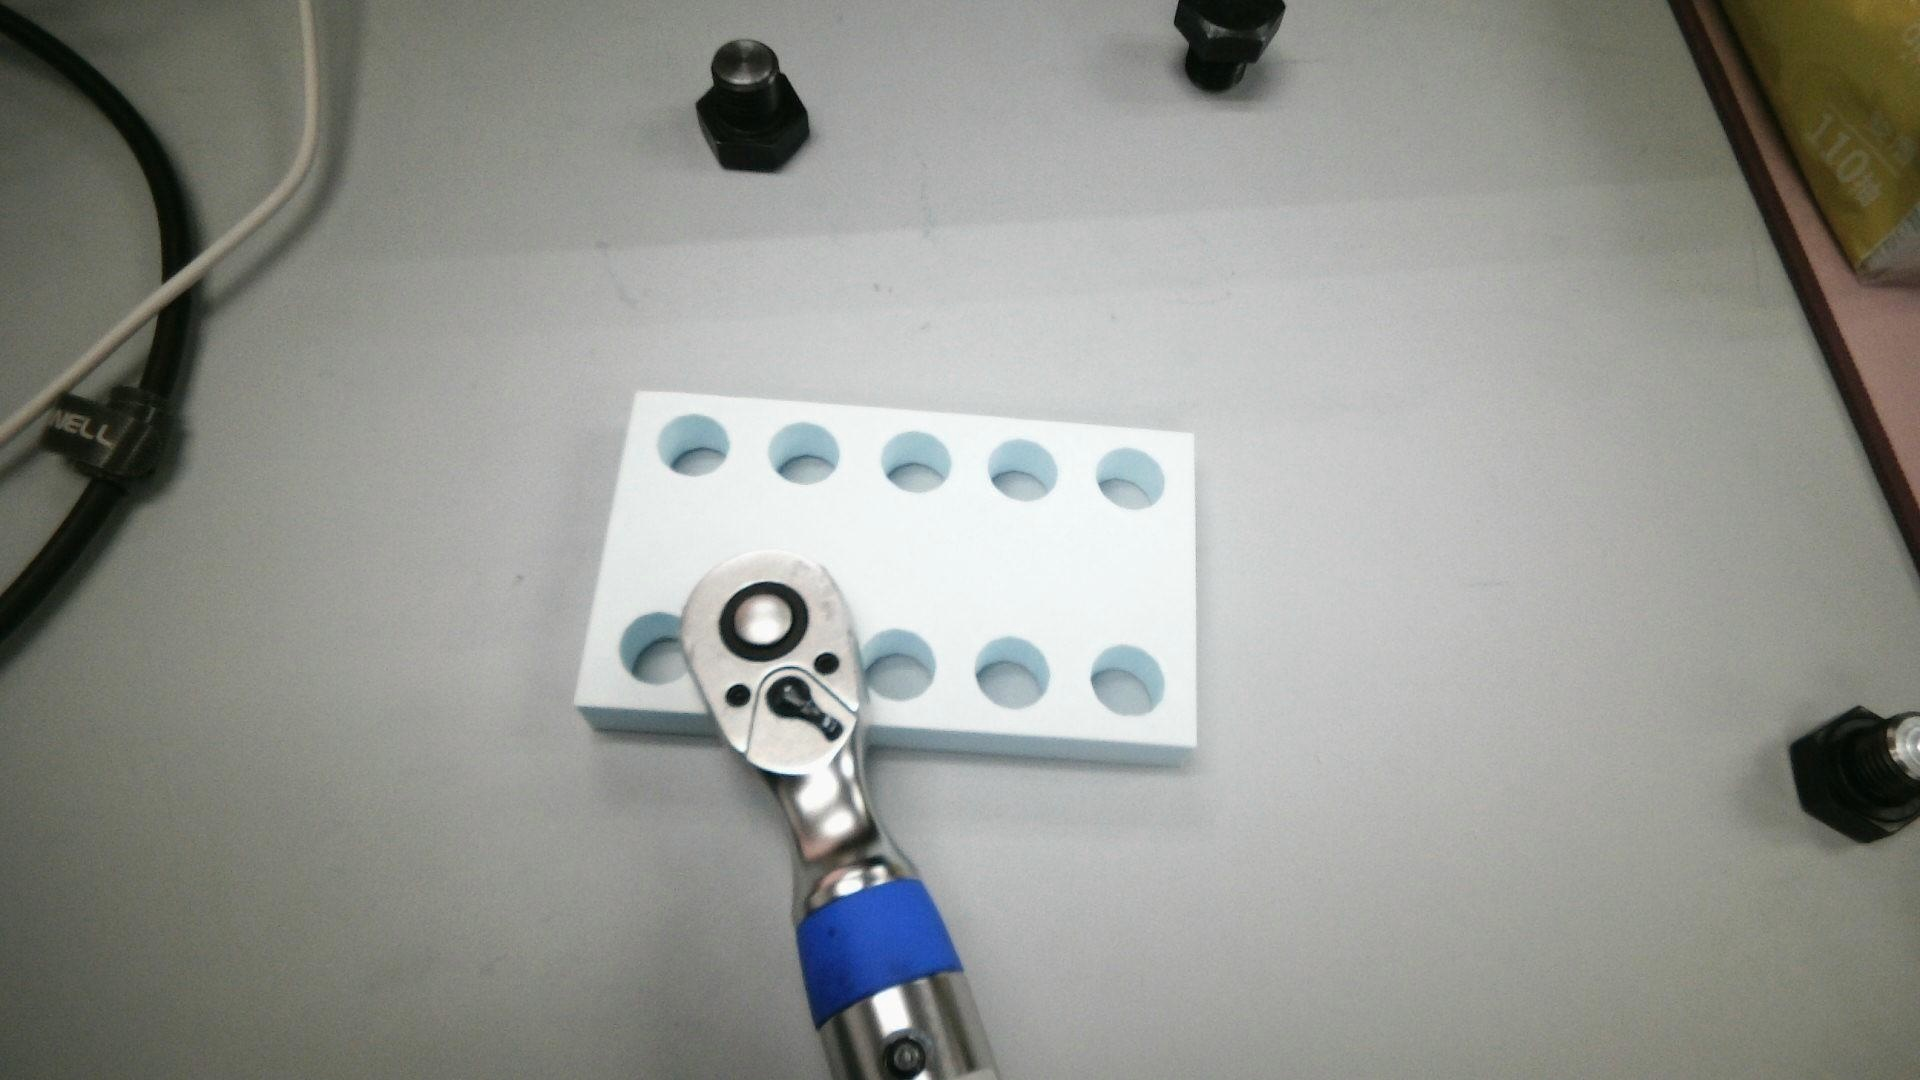hole: (975, 637, 1054, 712), (861, 629, 939, 703), (1092, 645, 1166, 716), (618, 612, 688, 687), (655, 414, 731, 479), (880, 429, 952, 495), (986, 438, 1058, 501), (766, 423, 840, 483), (1096, 448, 1167, 508)
obj: (574, 390, 1200, 769)
wrench: (719, 582, 810, 663)
